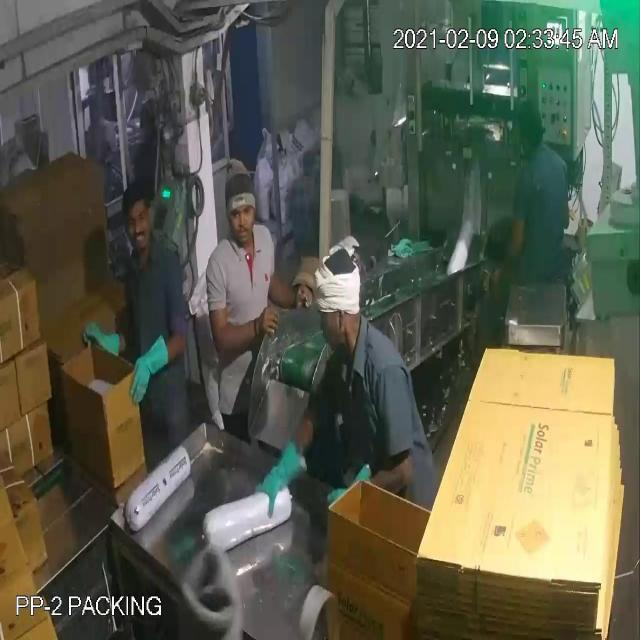Gloves: (47, 62, 512, 485)
